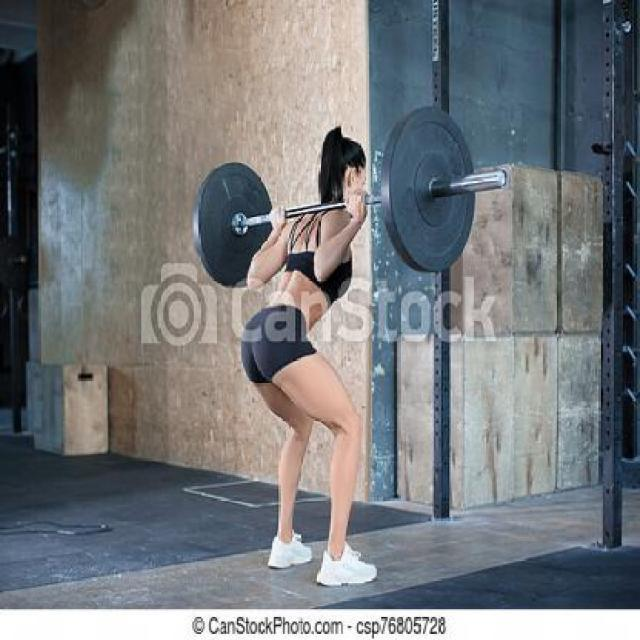Barbell: (494, 160, 512, 193)
